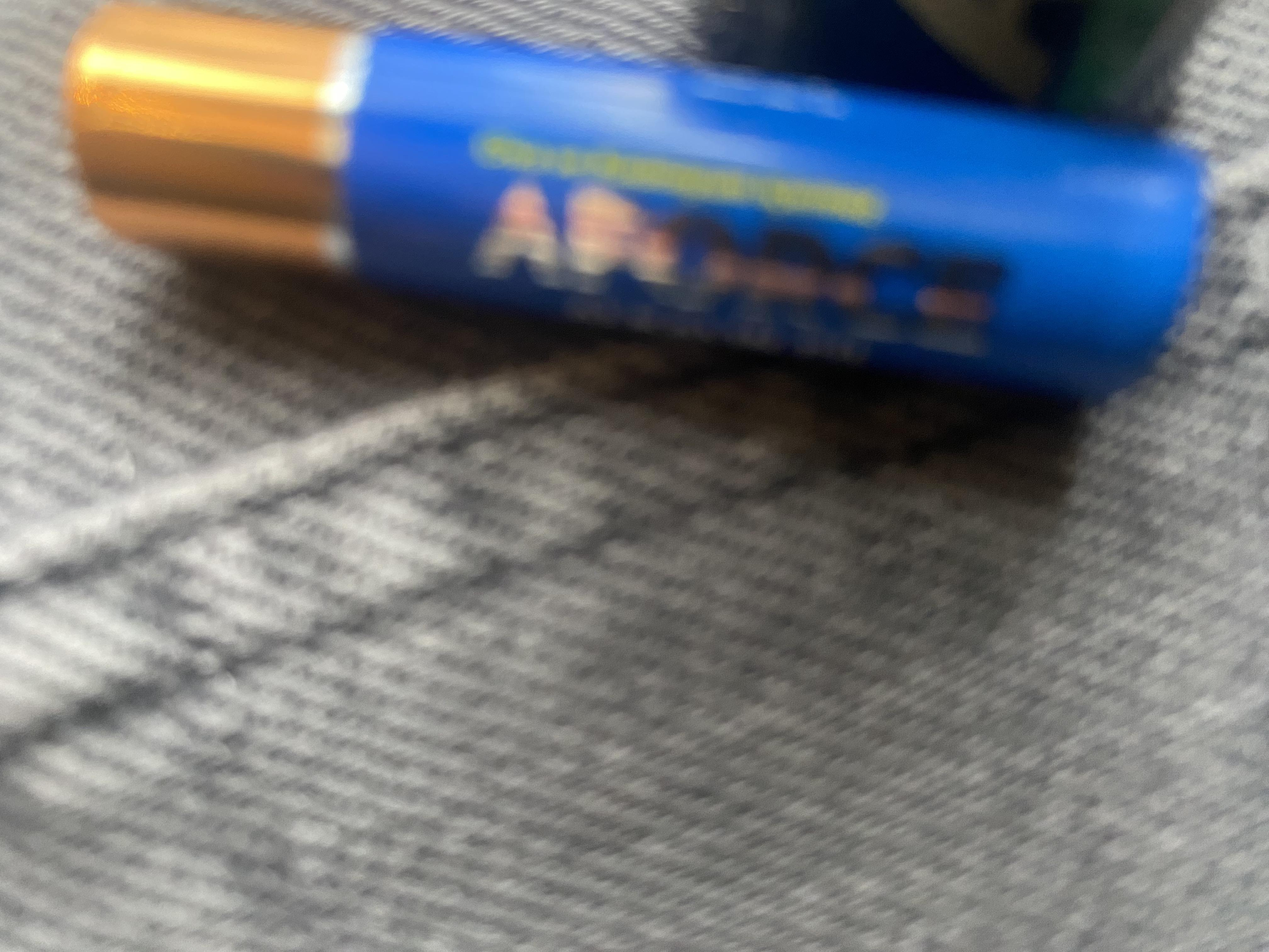AA: (60, 1, 1215, 411)
